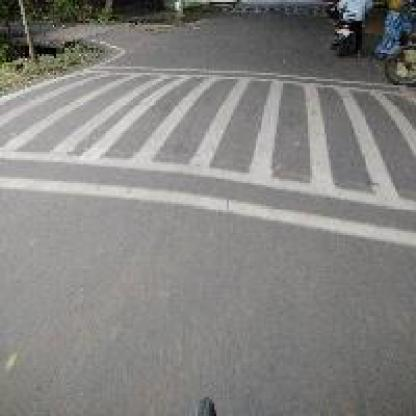Speed Bump: (8, 62, 414, 252)
